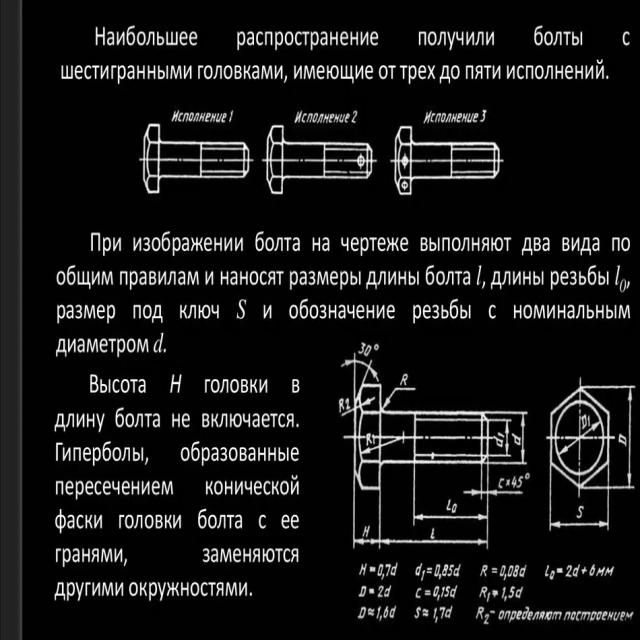marking_line: (378, 492, 490, 551), (412, 466, 491, 526), (610, 383, 637, 492), (549, 490, 610, 531), (490, 410, 529, 470), (487, 467, 525, 499), (340, 353, 379, 383), (351, 492, 369, 553), (368, 491, 383, 552), (490, 417, 512, 457), (463, 465, 486, 501), (383, 386, 418, 409), (590, 384, 636, 393), (589, 483, 639, 490), (362, 445, 377, 456), (364, 395, 375, 408)
numeric: (364, 344, 372, 357), (358, 343, 365, 355), (517, 475, 523, 489), (512, 476, 517, 490), (346, 398, 351, 411), (452, 501, 457, 513), (498, 431, 504, 438), (587, 416, 591, 425)
special_symbol: (491, 590, 500, 599), (422, 608, 429, 618), (367, 608, 374, 617), (426, 566, 433, 575), (424, 588, 431, 597), (491, 567, 498, 574), (557, 568, 564, 575), (369, 588, 375, 596), (374, 343, 379, 352), (369, 566, 376, 572), (525, 473, 530, 480), (491, 610, 496, 615)
